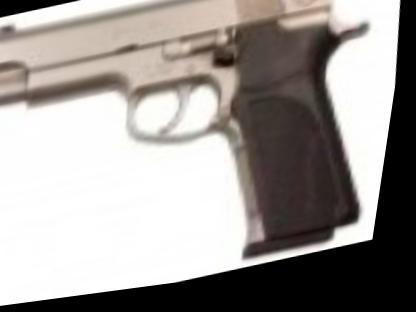pistol: (0, 0, 402, 311)
